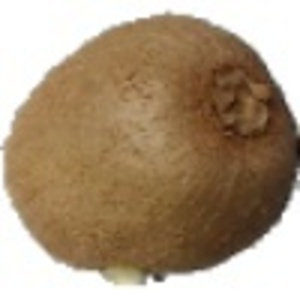kiwi: (1, 11, 300, 289)
